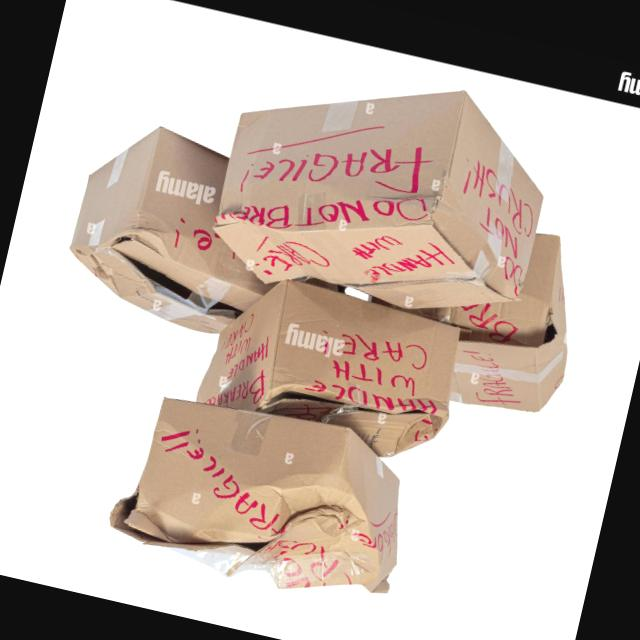Garbage: (190, 36, 572, 344), (87, 371, 432, 622), (185, 258, 475, 477), (53, 108, 310, 350)
